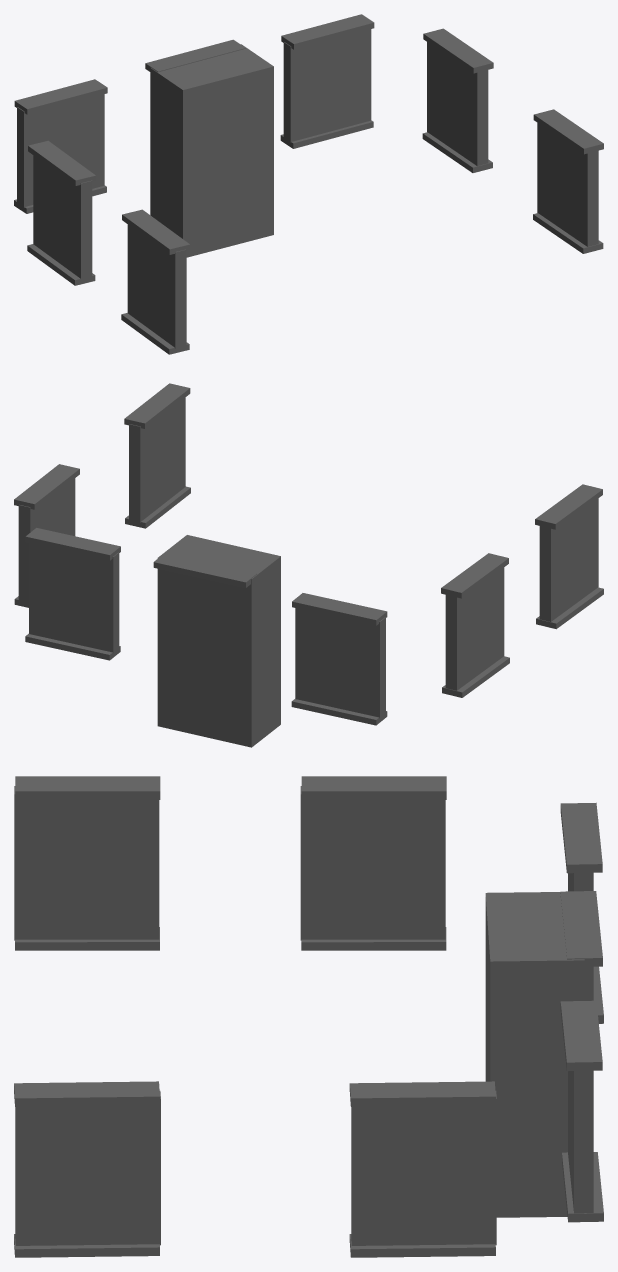
Rendered from Detail_LOD0.obj.
3 views of the same model, one above another, from view 1: azimuth 30°, elevation 25°; view 2: azimuth 150°, elevation 25°; view 3: azimuth 270°, elevation 25° (orthographic). The views are drawn at different scales.
Visible parts, largest first — view 1: Cube.010_Cube.012, Cube.025_Cube.028, Cube.011_Cube.016, Cube.005_Cube.006, Cube.022_Cube.025, Cube.019_Cube.022, Cube.016_Cube.019, Cube.021_Cube.024, Cube.026_Cube.029, Cube.001_Cube.013, Cube.014_Cube.017, Cube.015_Cube.018 (+7 smaller); view 2: Cube.010_Cube.012, Cube.025_Cube.028, Cube.022_Cube.025, Cube.016_Cube.019, Cube.019_Cube.022, Cube.011_Cube.016, Cube.005_Cube.006, Cube.027_Cube.030, Cube.021_Cube.024, Cube.026_Cube.029, Cube.020_Cube.023, Cube.015_Cube.018 (+7 smaller); view 3: Cube.010_Cube.012, Cube.019_Cube.022, Cube.016_Cube.019, Cube.005_Cube.006, Cube.011_Cube.016, Cube.001_Cube.013, Cube.014_Cube.017, Cube.025_Cube.028, Cube.020_Cube.023, Cube.015_Cube.018, Cube.027_Cube.030, Cube.021_Cube.024 (+7 smaller).
Part boxes in pixels (bbox=[...]): Cube.010_Cube.012: bbox=[150, 44, 273, 257]; Cube.025_Cube.028: bbox=[283, 29, 371, 142]; Cube.011_Cube.016: bbox=[537, 123, 598, 246]; Cube.005_Cube.006: bbox=[427, 42, 488, 165]; Cube.022_Cube.025: bbox=[17, 94, 104, 207]; Cube.019_Cube.022: bbox=[33, 155, 92, 279]; Cube.016_Cube.019: bbox=[127, 224, 186, 348]; Cube.021_Cube.024: bbox=[14, 79, 107, 114]; Cube.026_Cube.029: bbox=[281, 14, 374, 49]; Cube.001_Cube.013: bbox=[423, 28, 493, 73]; Cube.014_Cube.017: bbox=[533, 109, 603, 154]; Cube.015_Cube.018: bbox=[122, 209, 190, 254]; Cube.010_Cube.012: bbox=[157, 535, 280, 747]; Cube.025_Cube.028: bbox=[29, 543, 119, 653]; Cube.022_Cube.025: bbox=[295, 608, 385, 718]; Cube.016_Cube.019: bbox=[539, 498, 598, 621]; Cube.019_Cube.022: bbox=[445, 567, 504, 690]; Cube.011_Cube.016: bbox=[129, 397, 185, 522]; Cube.005_Cube.006: bbox=[18, 478, 75, 603]; Cube.027_Cube.030: bbox=[153, 553, 256, 587]; Cube.021_Cube.024: bbox=[292, 593, 387, 625]; Cube.026_Cube.029: bbox=[25, 528, 120, 560]; Cube.020_Cube.023: bbox=[441, 553, 508, 598]; Cube.015_Cube.018: bbox=[535, 484, 602, 529]; Cube.010_Cube.012: bbox=[485, 892, 584, 1217]; Cube.019_Cube.022: bbox=[300, 786, 445, 940]; Cube.016_Cube.019: bbox=[14, 786, 159, 940]; Cube.005_Cube.006: bbox=[351, 1090, 496, 1245]; Cube.011_Cube.016: bbox=[15, 1091, 160, 1245]; Cube.001_Cube.013: bbox=[349, 1081, 495, 1106]; Cube.014_Cube.017: bbox=[14, 1081, 159, 1106]; Cube.025_Cube.028: bbox=[568, 1070, 593, 1213]; Cube.020_Cube.023: bbox=[301, 776, 446, 799]; Cube.015_Cube.018: bbox=[15, 776, 160, 799]; Cube.027_Cube.030: bbox=[560, 891, 602, 966]; Cube.021_Cube.024: bbox=[560, 802, 602, 873].
Size of the model in its own units: 0.9314 by 0.3462 by 0.7194.
Materials: 19 (19 with a texture image).
